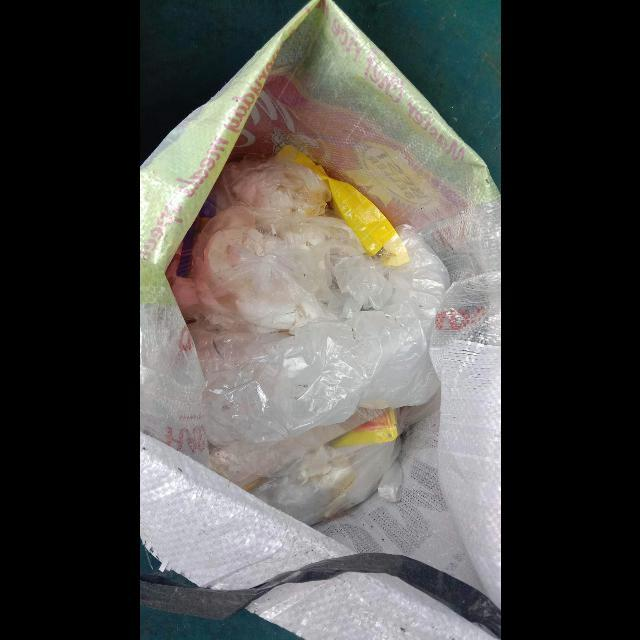plastic_bag: (191, 224, 450, 457), (197, 207, 360, 336)
